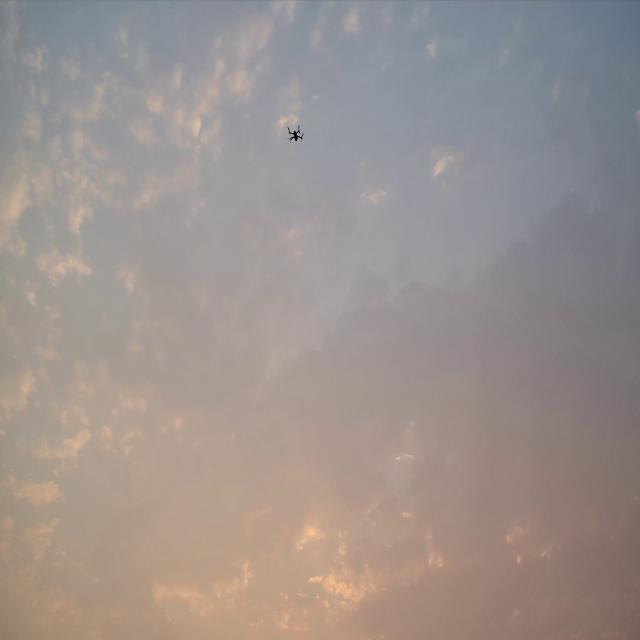drone: (286, 124, 304, 143)
